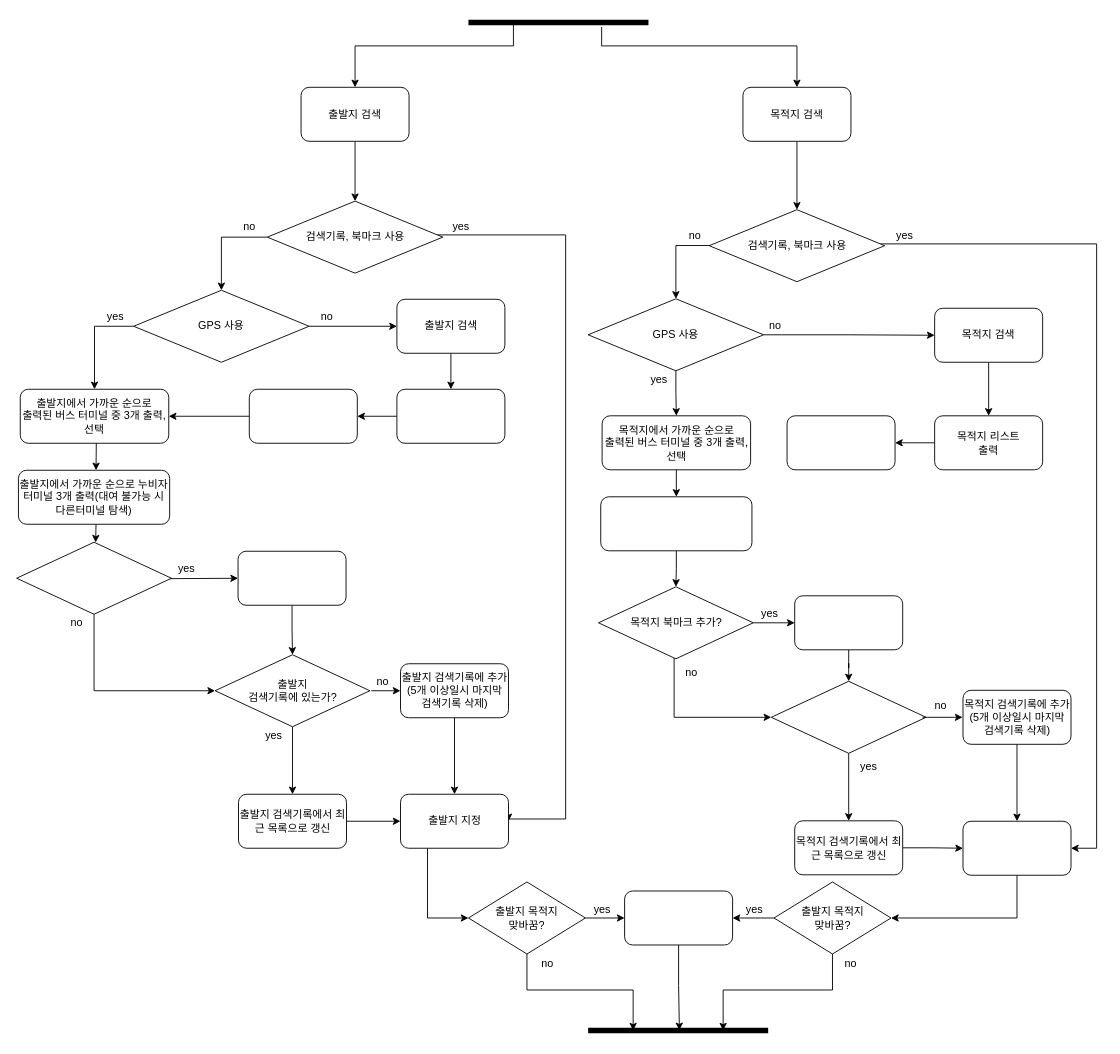
This 1120x1054 diagram has some shape labels left out. Each missing label, with the box of its shape:
목적지 검색기록에 있는가?: (770, 680, 926, 753)
목적지 리스트에서 원하는 장소 선택: (786, 415, 895, 470)
목적지 북마크 저장: (794, 595, 903, 650)
목적지 지정: (962, 820, 1071, 875)
목적지에서 가까운 순으로 누비자 터미널 3개 출력(반납 불가능 시 다른터미널 탐색): (600, 496, 752, 551)
출발지 리스트 출력: (248, 388, 357, 443)
출발지 리스트에서 원하는 장소 선택: (396, 388, 505, 443)
출발지 북마크 저장: (237, 550, 346, 605)
출발지 북마크 추가?: (16, 541, 171, 614)
출발지, 목적지 맞바꿈: (624, 890, 733, 945)
